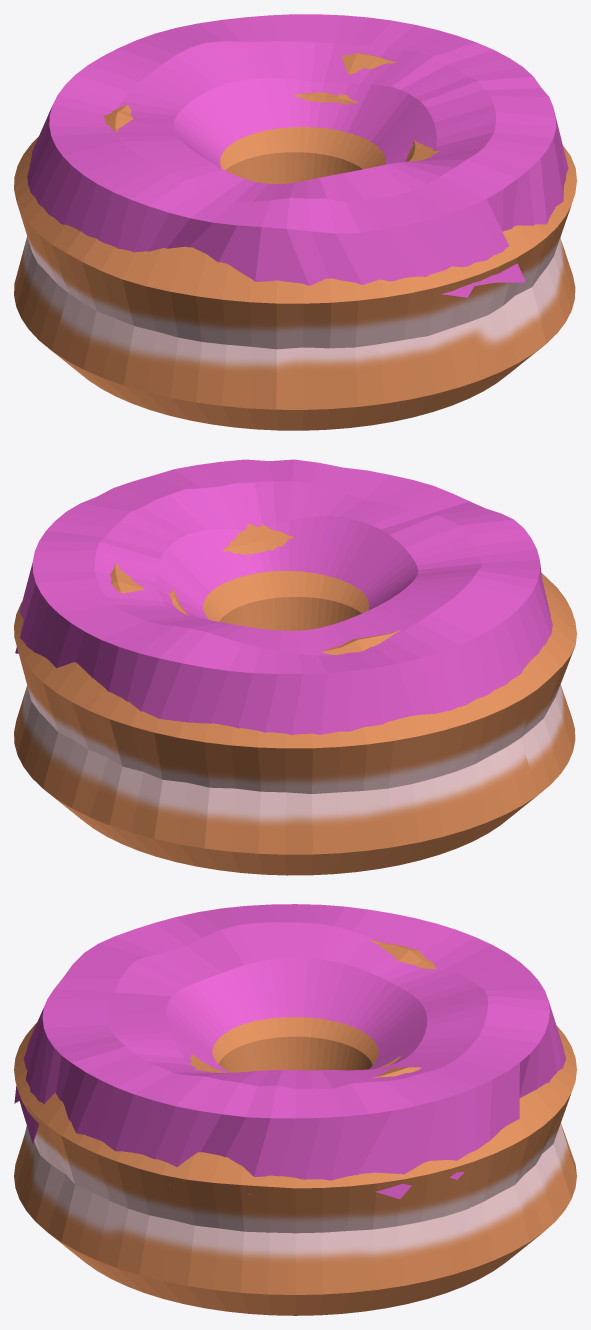
File: Donut.gltf
The picture shows the model from 3 angles, top to bottom: view 1: azimuth 30°, elevation 25°; view 2: azimuth 150°, elevation 25°; view 3: azimuth 270°, elevation 25°; orthographic projection.
Parts seen in each view (by area): view 1: Icing, Donut; view 2: Icing, Donut; view 3: Icing, Donut.
Boxes of the visible parts, bbox=[...] form: Icing: bbox=[27, 14, 568, 297]; Donut: bbox=[14, 53, 576, 430]; Icing: bbox=[15, 459, 552, 735]; Donut: bbox=[14, 523, 576, 875]; Icing: bbox=[14, 904, 565, 1199]; Donut: bbox=[14, 939, 576, 1315].
Bounding box in the file's own units: 0.8144 × 0.3679 × 0.8144.
Materials: 3 (1 with a texture image).
